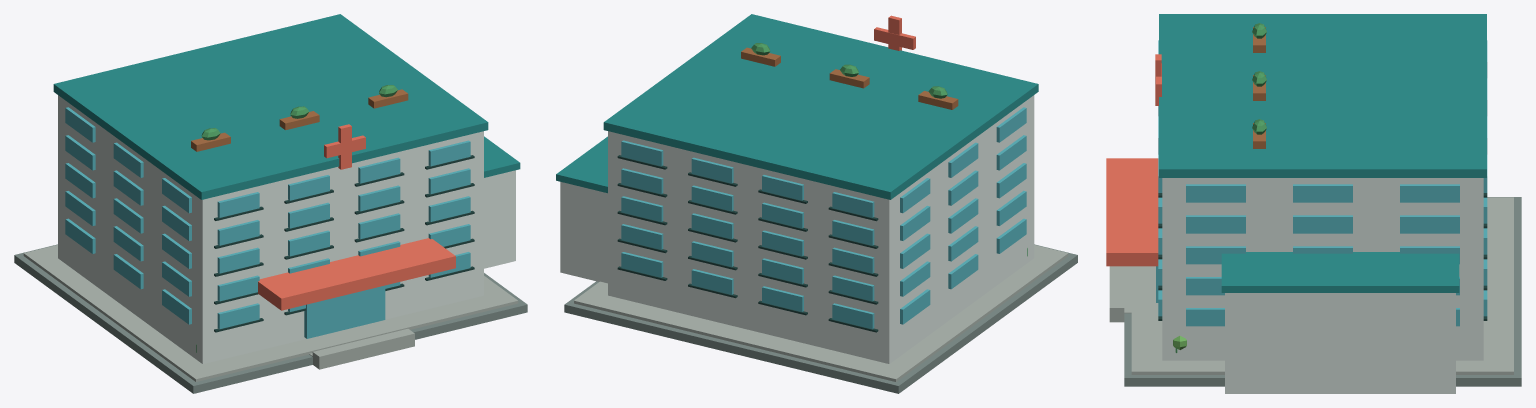
The model's file is clinic_lv3.glb.
3 views of the same model, side by side, from view 1: azimuth 30°, elevation 25°; view 2: azimuth 150°, elevation 25°; view 3: azimuth 270°, elevation 25° (orthographic). The views are drawn at different scales.
Parts seen in each view (by area): view 1: white, teal, glass, concrete, coral, pavement, dark, wood, green; view 2: white, teal, glass, concrete, pavement, dark, wood, coral, green; view 3: teal, white, glass, concrete, coral, pavement, wood, green.
Part boxes in pixels (box(x1,y1,x2,y2)): white: box(58, 95, 515, 363); teal: box(53, 14, 520, 199); glass: box(65, 107, 470, 338); concrete: box(23, 245, 518, 381); coral: box(258, 124, 455, 310); pavement: box(14, 244, 527, 393); dark: box(214, 155, 474, 332); wood: box(191, 89, 408, 151); green: box(196, 85, 397, 352); white: box(560, 95, 1034, 363); teal: box(556, 14, 1038, 199); glass: box(621, 107, 1026, 329); concrete: box(574, 245, 1068, 381); pavement: box(564, 244, 1077, 393); dark: box(617, 155, 878, 332); wood: box(741, 47, 958, 109); coral: box(874, 15, 915, 50); green: box(751, 43, 1027, 256); teal: box(1159, 14, 1486, 292); white: box(1162, 178, 1483, 393); glass: box(1156, 40, 1487, 326); concrete: box(1109, 197, 1513, 374); coral: box(1106, 54, 1161, 266); pavement: box(1124, 197, 1521, 386); wood: box(1253, 27, 1265, 148); green: box(1175, 23, 1266, 352).
Size of the model in its own units: 10.87 by 6.03 by 9.51.
